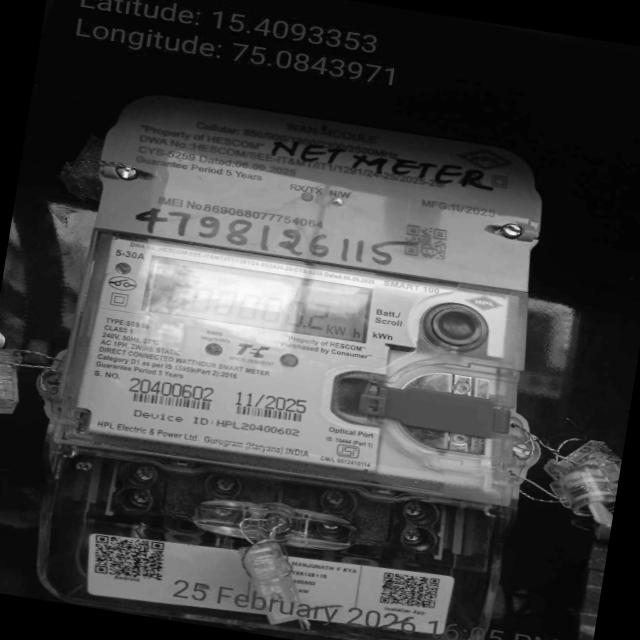meter: (70, 91, 564, 506)
